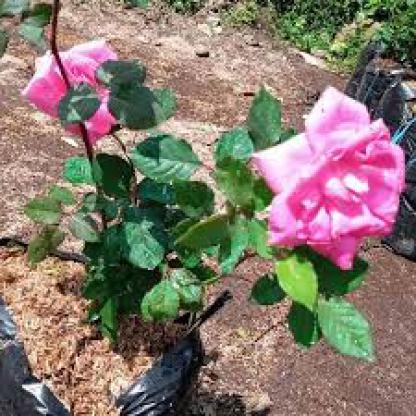Rose-Mawar: (245, 81, 406, 275)
